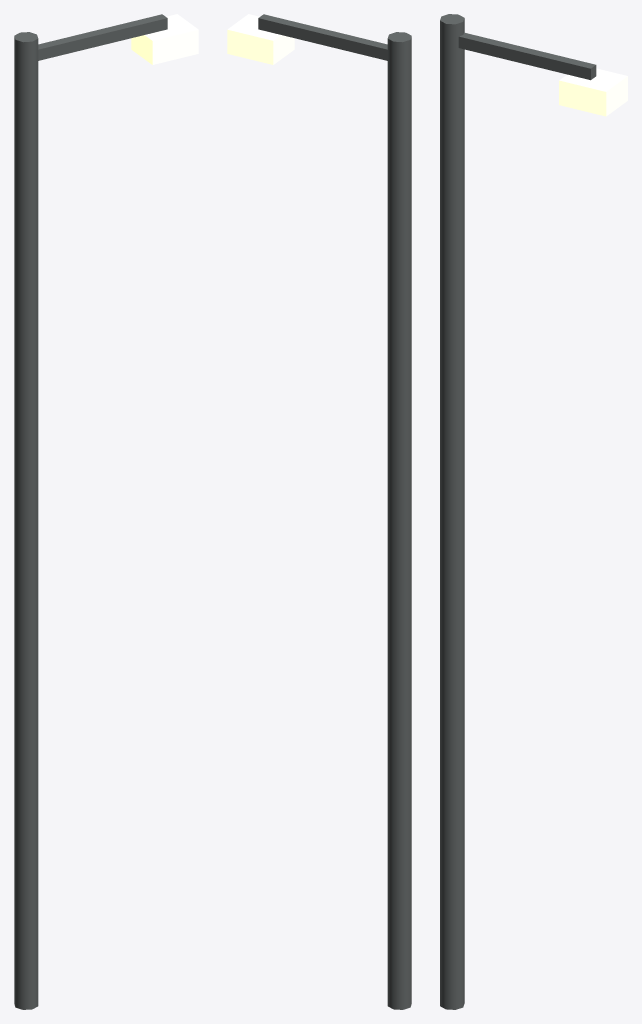
File: ext_lamp_post.glb
3 renders of one model, left to right at view 1: azimuth 30°, elevation 25°; view 2: azimuth 150°, elevation 25°; view 3: azimuth 330°, elevation 25°, orthographic.
Parts seen in each view (by area): view 1: ext_lamp_post; view 2: ext_lamp_post; view 3: ext_lamp_post.
Boxes of the visible parts, box(x1,y1,x2,y2) form: ext_lamp_post: box(14, 14, 198, 1009); ext_lamp_post: box(227, 14, 411, 1009); ext_lamp_post: box(440, 14, 627, 1009).
Size of what is drawn, in the model's own units: 1.12 by 6 by 0.24.
